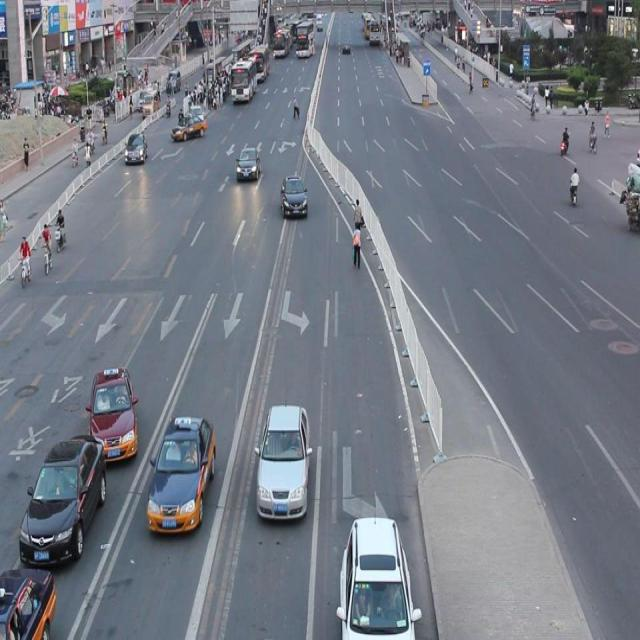car: (19, 432, 107, 566), (339, 514, 417, 640), (146, 414, 217, 535), (254, 401, 311, 519), (88, 364, 139, 464), (1, 565, 55, 640), (279, 172, 308, 220), (235, 144, 260, 183), (125, 131, 148, 166)
